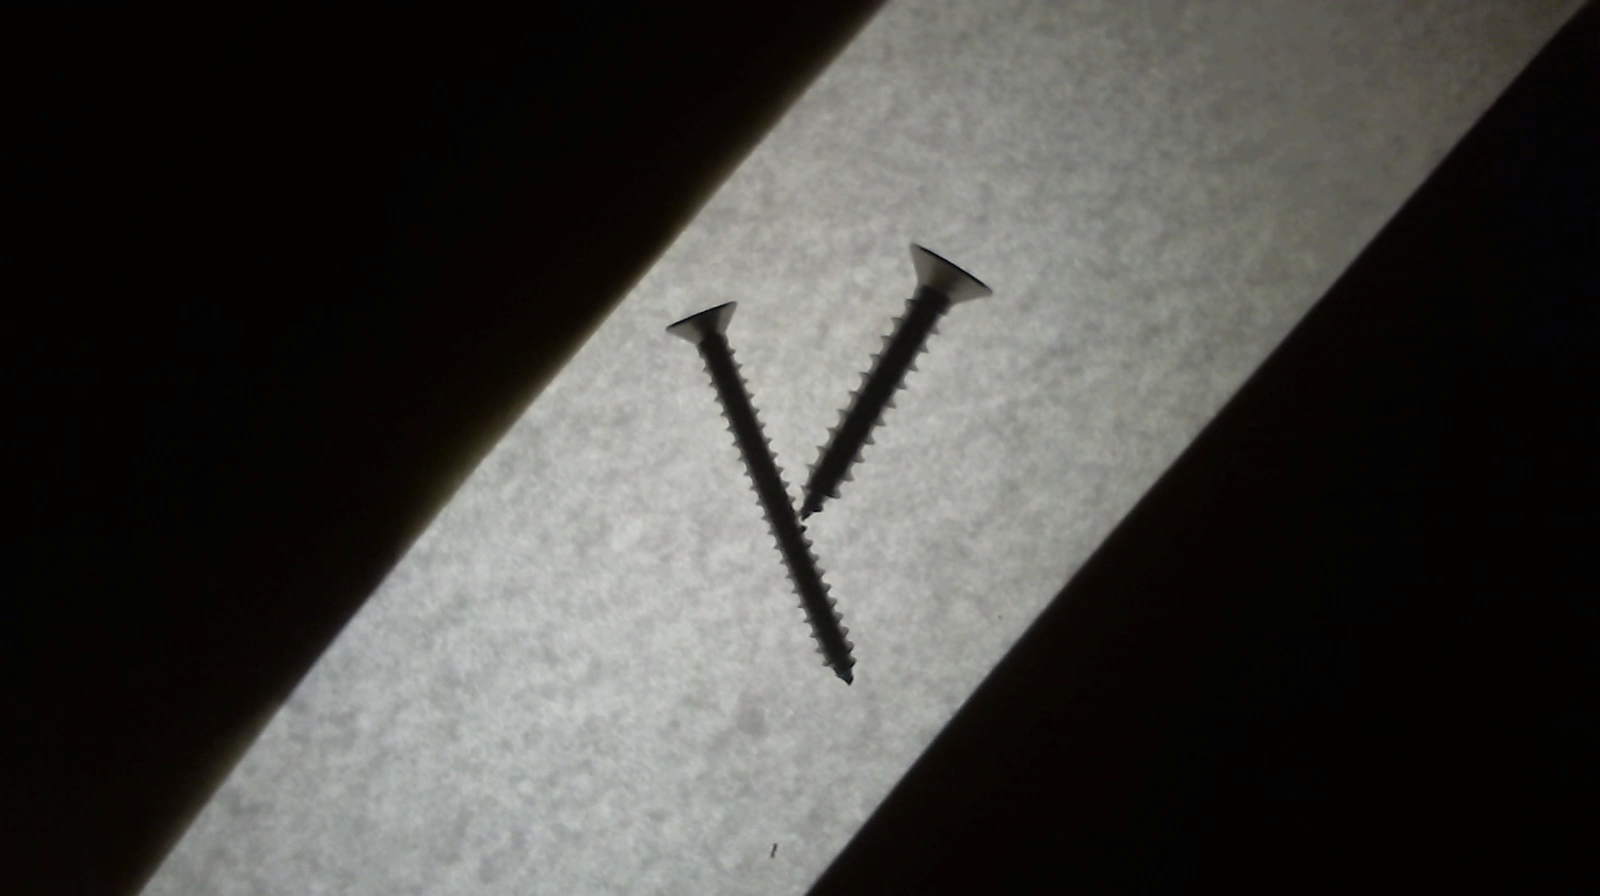S001: (793, 241, 1000, 524)
S002: (664, 292, 862, 687)
